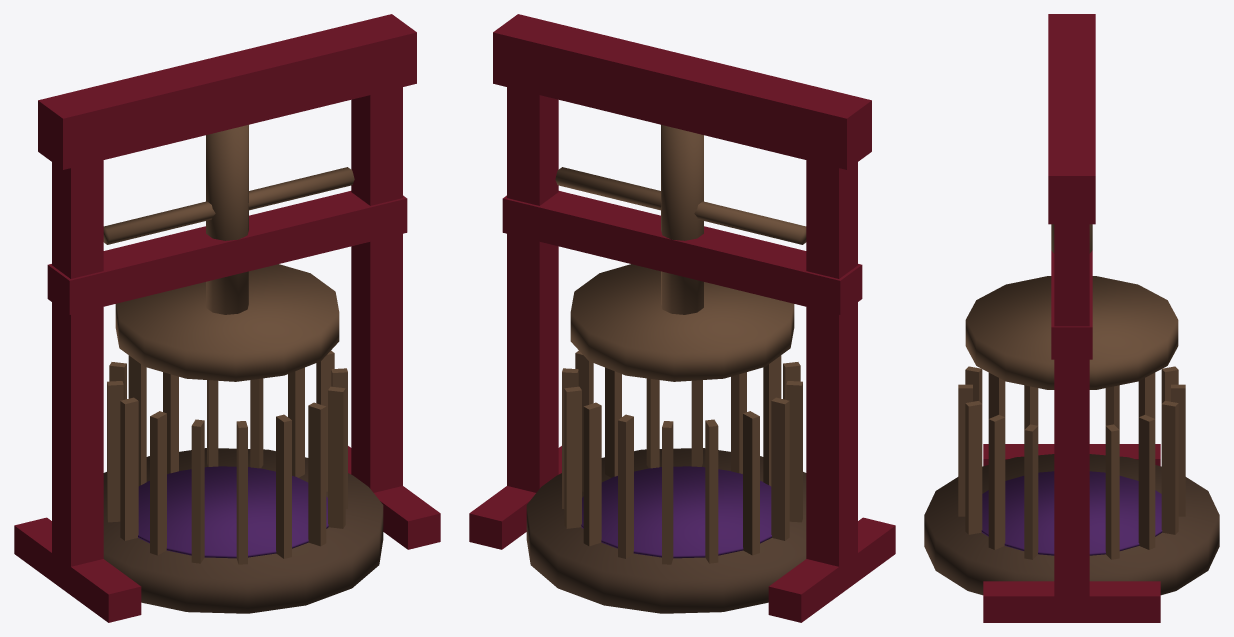
File: wine_press.glb
The picture shows the model from 3 angles, left to right: view 1: azimuth 30°, elevation 25°; view 2: azimuth 150°, elevation 25°; view 3: azimuth 270°, elevation 25°; orthographic projection. The views are drawn at different scales.
Visible parts, largest first — view 1: wine_press; view 2: wine_press; view 3: wine_press.
Part boxes in pixels (bbox=[...]): wine_press: bbox=[14, 14, 440, 622]; wine_press: bbox=[469, 14, 895, 622]; wine_press: bbox=[924, 14, 1219, 622].
Bounding box in the file's own units: 1.3 × 1.69 × 1.
